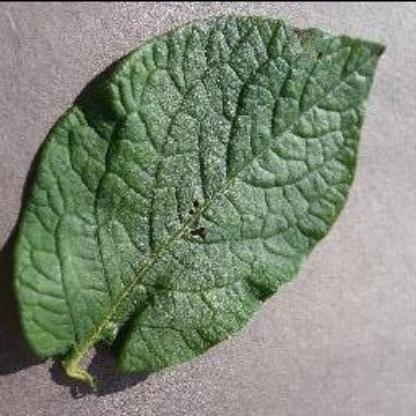Healthy-plant: (12, 10, 400, 396)
